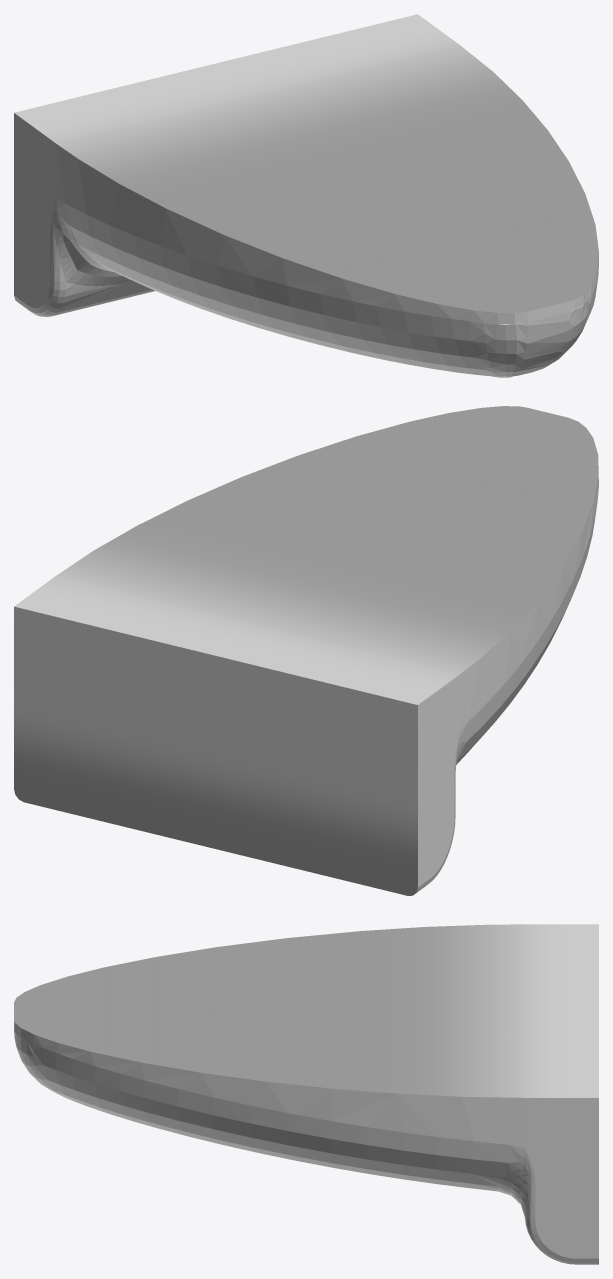
The model's file is finger_2_viz.dae.
3 views of the same model, one above another, from view 1: azimuth 30°, elevation 25°; view 2: azimuth 150°, elevation 25°; view 3: azimuth 270°, elevation 25° (orthographic). The views are drawn at different scales.
Parts seen in each view (by area): view 1: node; view 2: node; view 3: node.
Part boxes in pixels (x1,y1,x2,y2): node: (14, 14, 598, 377); node: (14, 406, 598, 895); node: (14, 924, 598, 1264).
Size of the model in its own units: 39.8 by 18.2 by 56.7.
1 material, 1 textured.
